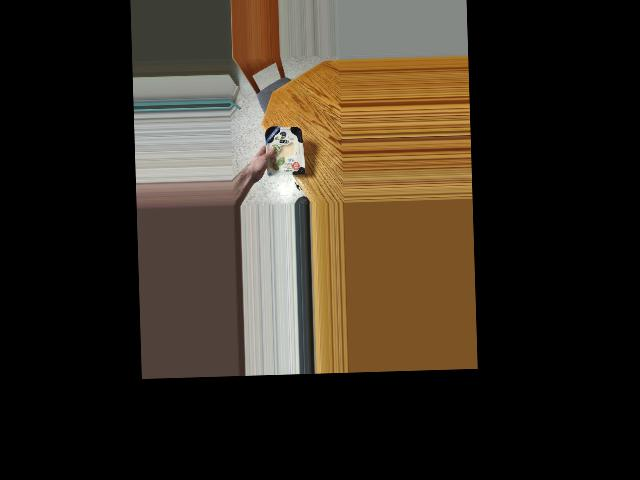cheese: (263, 114, 304, 187)
